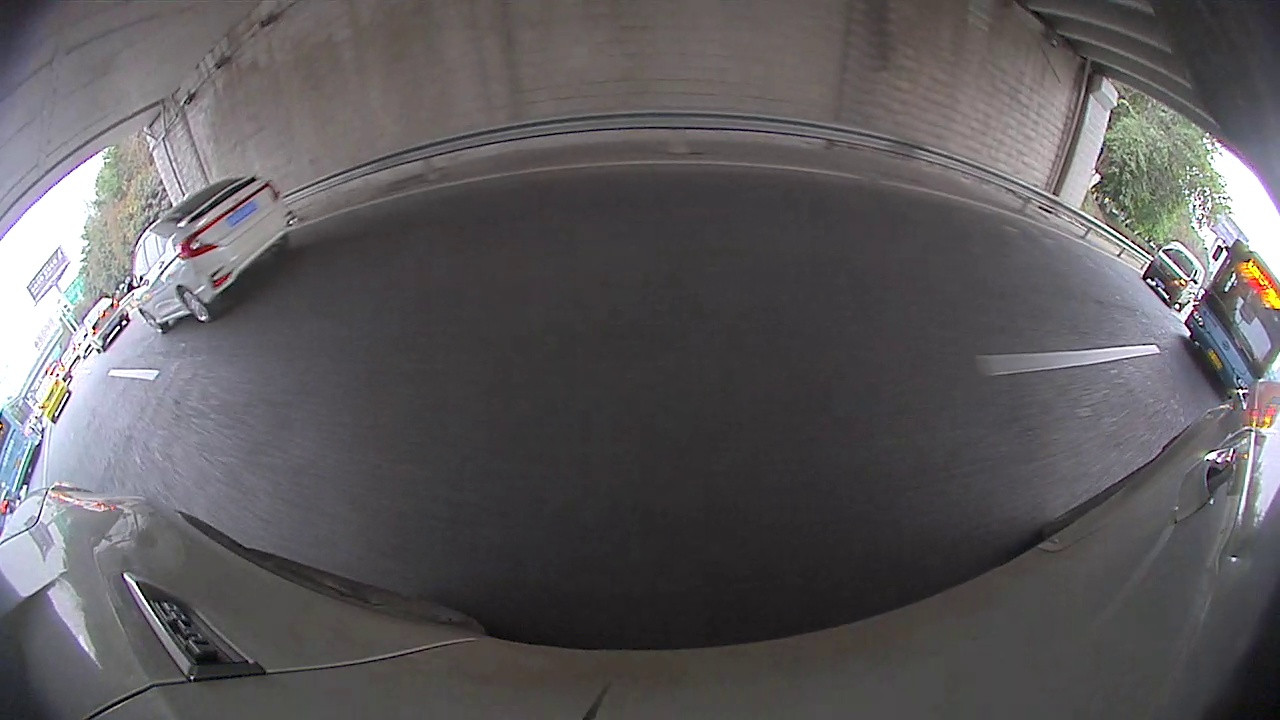bus: (1094, 206, 1221, 371)
car: (111, 115, 414, 311), (465, 27, 780, 167), (1186, 371, 1246, 458), (43, 271, 97, 333)
front: (224, 234, 280, 299), (701, 118, 753, 166)
rear: (495, 104, 547, 158), (127, 268, 167, 312)
